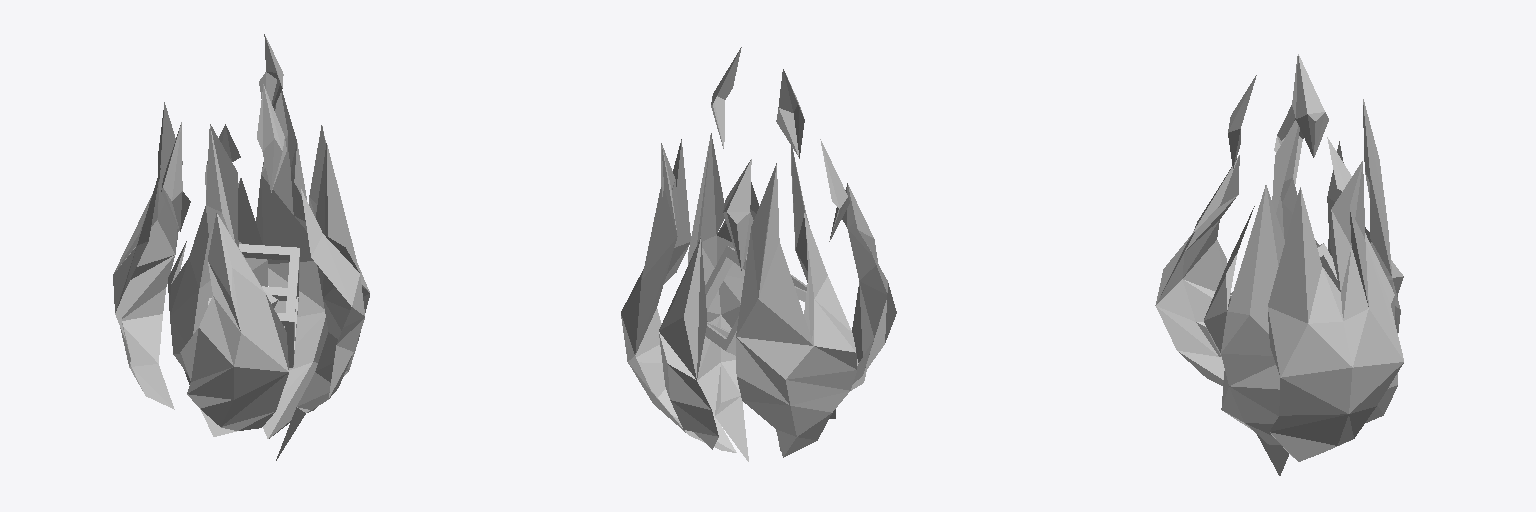
File: soul_5.obj
The picture shows the model from 3 angles: view 1: azimuth 30°, elevation 25°; view 2: azimuth 150°, elevation 25°; view 3: azimuth 270°, elevation 25°; orthographic projection.
Parts seen in each view (by area): view 1: soul5; view 2: soul5; view 3: soul5.
Part boxes in pixels (x1,y1,x2,y2): soul5: (113, 34, 369, 460); soul5: (621, 47, 896, 461); soul5: (1155, 54, 1403, 475).
Bounding box in the file's own units: 0.8331 × 1.47 × 0.7834.